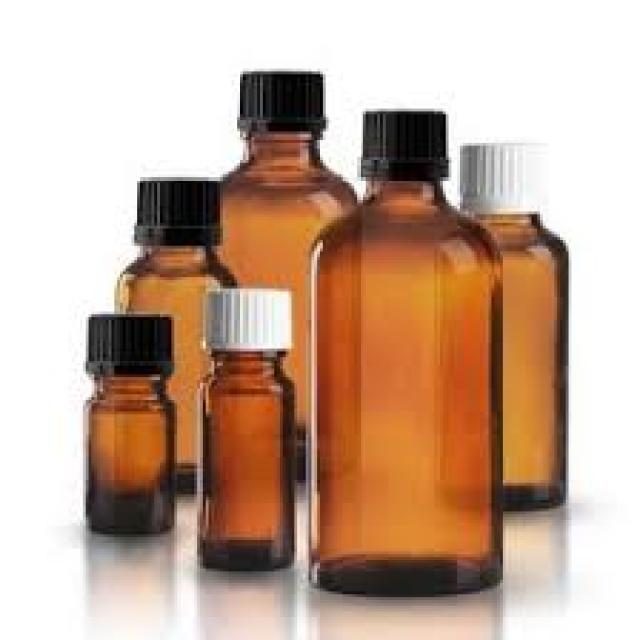glass: (309, 177, 506, 597), (212, 129, 357, 480), (434, 215, 566, 512), (115, 243, 232, 491), (195, 352, 292, 569), (80, 372, 174, 535)
plastic: (457, 137, 552, 212), (357, 106, 449, 177), (231, 69, 326, 134), (197, 286, 292, 349), (132, 174, 217, 243), (83, 315, 168, 375)
